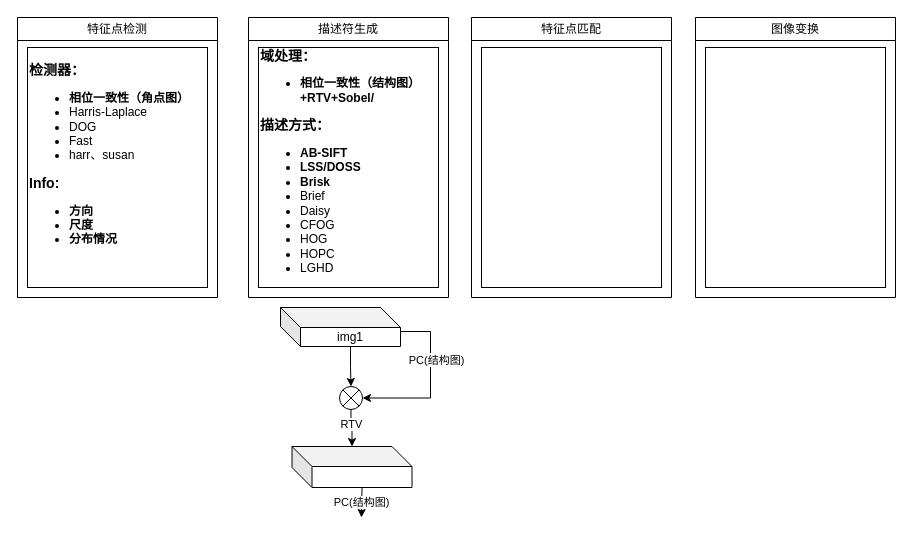
Image size: 913x543. Some labels were removed from this diagram. The shapes that lost their labels are listed below. From the top down, each one's centre as x and y in pixels, then its label:
the point at 571,167: 特征点处理： 去除异常点（LLE） 描述符处理： POS-ED COS 点对匹配： FSC EM SSD/NCC/NMI shape context
the point at 795,167: 整体变换： Similarity Affine Homography TPS Piecewise liner
the point at 351,467: img2
